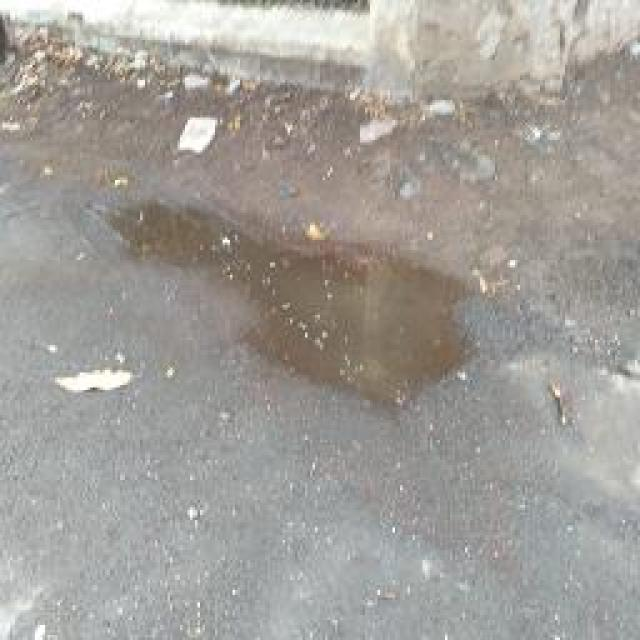puddle: (227, 241, 470, 399)
